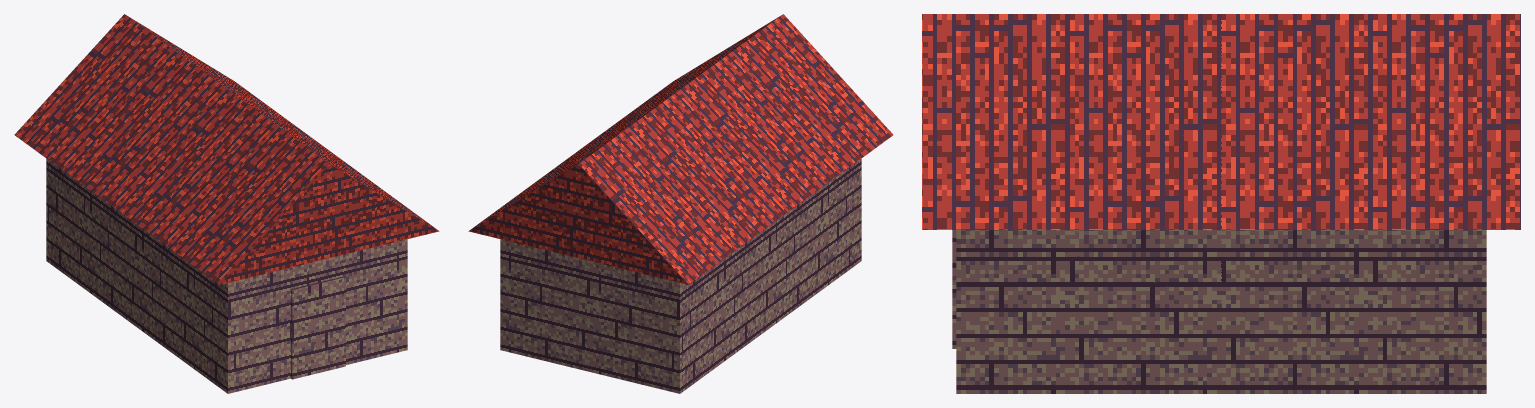
Rendered from posto_fundo_rocha_cantina.glb.
3 views of the same model, side by side, from view 1: azimuth 30°, elevation 25°; view 2: azimuth 150°, elevation 25°; view 3: azimuth 270°, elevation 25° (orthographic). The views are drawn at different scales.
Visible parts, largest first — view 1: posto_fundo_rocha_cantina; view 2: posto_fundo_rocha_cantina; view 3: posto_fundo_rocha_cantina.
Part boxes in pixels (left/top/right/bottom): posto_fundo_rocha_cantina: left=14, top=14, right=439, bottom=393; posto_fundo_rocha_cantina: left=468, top=14, right=893, bottom=393; posto_fundo_rocha_cantina: left=922, top=14, right=1520, bottom=393.
Size of the model in its own units: 4.9 by 4.6 by 7.9.
2 materials, 2 textured.
